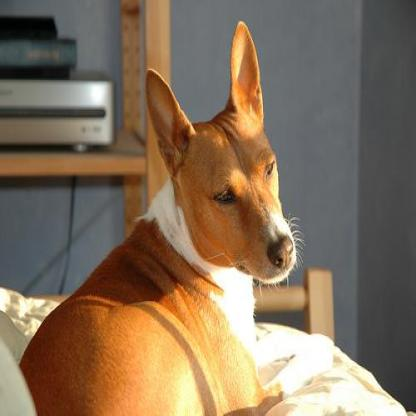basenji: (18, 18, 304, 414)
